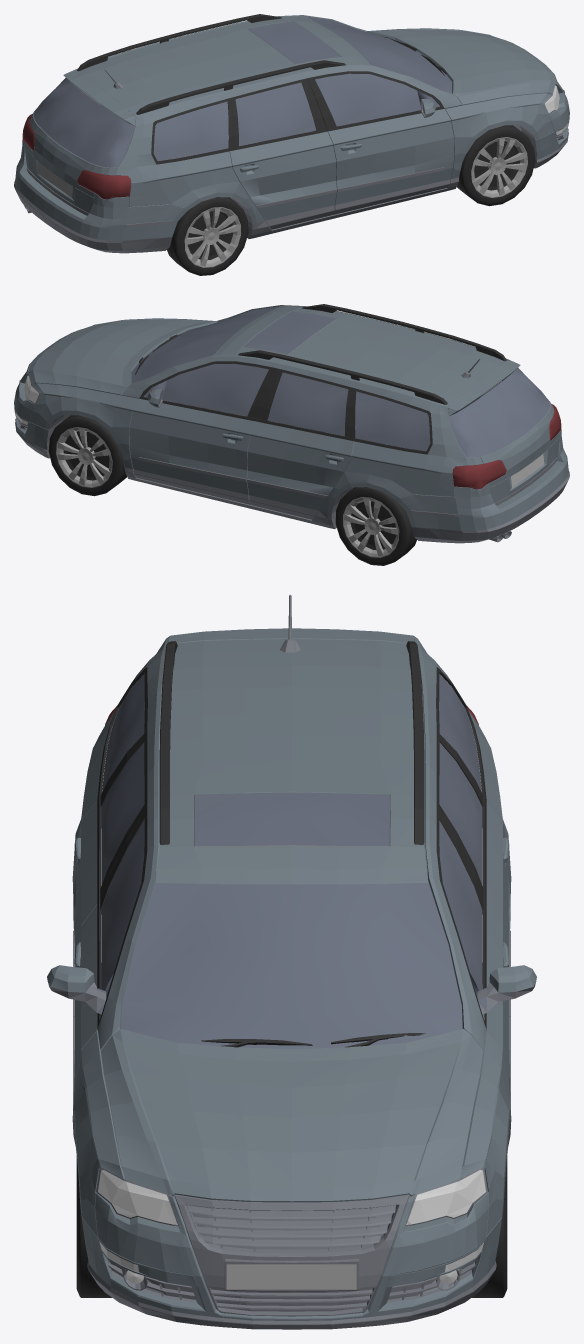
The model's file is MPV.glb.
3 renders of one model, top to bottom at view 1: azimuth 30°, elevation 25°; view 2: azimuth 150°, elevation 25°; view 3: azimuth 270°, elevation 25°, orthographic. The views are drawn at different scales.
Visible parts, largest first — view 1: body, Box098.001; view 2: body, Box098.001; view 3: body, Box098.001.
Boxes of the visible parts, <box> form: body: <box>15,15,569,240</box>; Box098.001: <box>14,14,568,275</box>; body: <box>14,305,568,530</box>; Box098.001: <box>15,304,569,565</box>; body: <box>47,628,536,1320</box>; Box098.001: <box>48,594,535,1329</box>.
Size of the model in its own units: 4.81 by 1.64 by 2.01.
